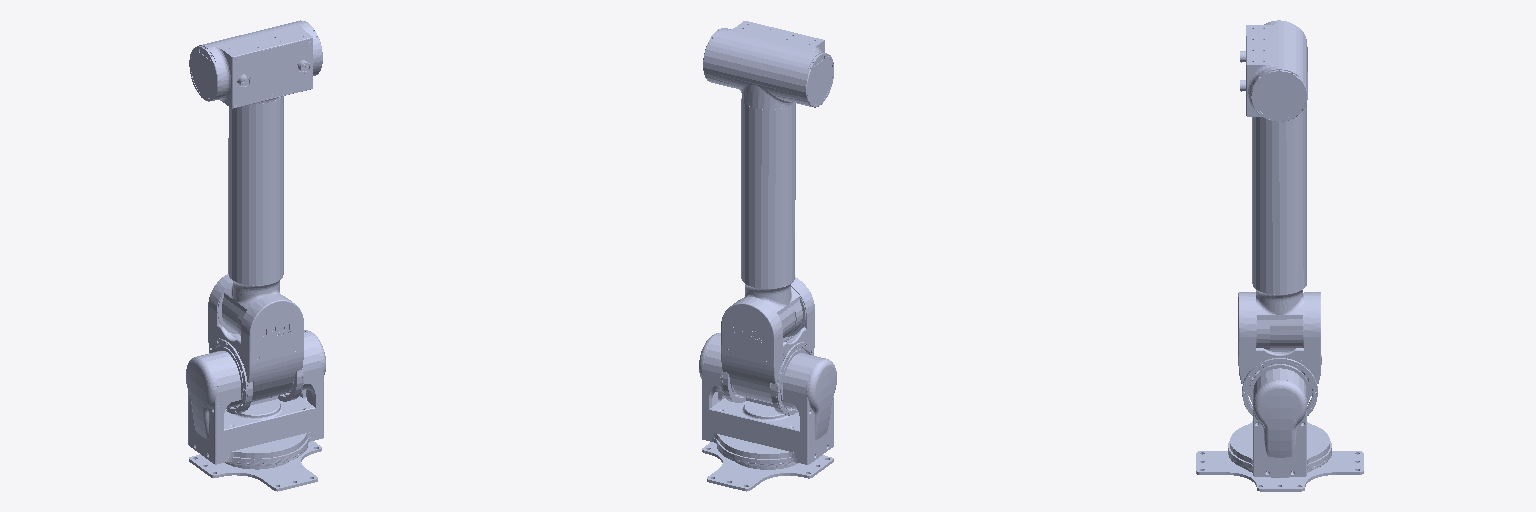
URDF robot description (mk2_arm):
<robot
  name="mk2_arm">
  <link
    name="gimbal_base_link">
    <inertial>
      <origin
        xyz="0.697730712652662 -0.61423613512963 0.0953054578075344"
        rpy="0 0 0" />
      <mass
        value="0.220004714037555" />
      <inertia
        ixx="0.000329104039004711"
        ixy="1.84945148884467E-07"
        ixz="-1.07919275499797E-06"
        iyy="0.00052362622412332"
        iyz="1.21510237523141E-07"
        izz="0.000212205129514198" />
    </inertial>
    <visual>
      <origin
        xyz="0 0 0"
        rpy="0 0 0" />
      <geometry>
        <mesh
          filename="package://mk2_arm_description/meshes/gimbal_base_link.STL" />
      </geometry>
      <material
        name="">
        <color
          rgba="0.792156862745098 0.819607843137255 0.933333333333333 1" />
      </material>
    </visual>
    <collision>
      <origin
        xyz="0 0 0"
        rpy="0 0 0" />
      <geometry>
        <mesh
          filename="package://mk2_arm_description/meshes/gimbal_base_link.STL" />
      </geometry>
    </collision>
  </link>
  <link
    name="gimbal_yaw_link">
    <inertial>
      <origin
        xyz="6.9473E-09 -0.1105 7.1443E-09"
        rpy="0 0 0" />
      <mass
        value="0.66047" />
      <inertia
        ixx="0.0011083"
        ixy="5.3867E-10"
        ixz="1.7212E-08"
        iyy="0.0019559"
        iyz="6.5501E-10"
        izz="0.0021629" />
    </inertial>
    <visual>
      <origin
        xyz="0 0 0"
        rpy="0 0 0" />
      <geometry>
        <mesh
          filename="package://mk2_arm_description/meshes/gimbal_yaw_link.STL" />
      </geometry>
      <material
        name="">
        <color
          rgba="0.79216 0.81961 0.93333 1" />
      </material>
    </visual>
    <collision>
      <origin
        xyz="0 0 0"
        rpy="0 0 0" />
      <geometry>
        <mesh
          filename="package://mk2_arm_description/meshes/gimbal_yaw_link.STL" />
      </geometry>
    </collision>
  </link>
  <joint
    name="gimbal_yaw_joint"
    type="continuous">
    <origin
      xyz="0.69787 -0.095394 -0.45928"
      rpy="1.5708 1.1605E-19 0.0018953" />
    <parent
      link="gimbal_base_link" />
    <child
      link="gimbal_yaw_link" />
    <axis
      xyz="0 -1 0" />
  </joint>
  <link
    name="gimbal_pitch_link">
    <inertial>
      <origin
        xyz="-0.0018808 0.040513 2.2934E-08"
        rpy="0 0 0" />
      <mass
        value="0.22273" />
      <inertia
        ixx="0.00053005"
        ixy="-1.8793E-05"
        ixz="-1.0251E-08"
        iyy="0.00048715"
        iyz="-2.5611E-09"
        izz="0.00067305" />
    </inertial>
    <visual>
      <origin
        xyz="0 0 0"
        rpy="0 0 0" />
      <geometry>
        <mesh
          filename="package://mk2_arm_description/meshes/gimbal_pitch_link.STL" />
      </geometry>
      <material
        name="">
        <color
          rgba="0.79216 0.81961 0.93333 1" />
      </material>
    </visual>
    <collision>
      <origin
        xyz="0 0 0"
        rpy="0 0 0" />
      <geometry>
        <mesh
          filename="package://mk2_arm_description/meshes/gimbal_pitch_link.STL" />
      </geometry>
    </collision>
  </link>
  <joint
    name="gimbal_pitch_joint"
    type="continuous">
    <origin
      xyz="0 -0.04 0"
      rpy="1.5708 1.5684 1.5708" />
    <parent
      link="gimbal_yaw_link" />
    <child
      link="gimbal_pitch_link" />
    <axis
      xyz="0 0 -1" />
  </joint>
  <link
    name="gimbal_roll_link">
    <inertial>
      <origin
        xyz="0.0011234 0.25248 -2.1452E-08"
        rpy="0 0 0" />
      <mass
        value="1.0691" />
      <inertia
        ixx="0.028215"
        ixy="0.00010924"
        ixz="-1.0872E-09"
        iyy="0.0020241"
        iyz="-1.2535E-09"
        izz="0.027072" />
    </inertial>
    <visual>
      <origin
        xyz="0 0 0"
        rpy="0 0 0" />
      <geometry>
        <mesh
          filename="package://mk2_arm_description/meshes/gimbal_roll_link.STL" />
      </geometry>
      <material
        name="">
        <color
          rgba="0.79216 0.81961 0.93333 1" />
      </material>
    </visual>
    <collision>
      <origin
        xyz="0 0 0"
        rpy="0 0 0" />
      <geometry>
        <mesh
          filename="package://mk2_arm_description/meshes/gimbal_roll_link.STL" />
      </geometry>
    </collision>
  </link>
  <joint
    name="gimbal_roll_joint"
    type="continuous">
    <origin
      xyz="0 0.08 0"
      rpy="-3.1404 -4.4405E-14 -3.1416" />
    <parent
      link="gimbal_pitch_link" />
    <child
      link="gimbal_roll_link" />
    <axis
      xyz="-1 0 0" />
  </joint>
</robot>

--- Facts derived from the render (not from the file) ---
The picture shows the robot from 3 angles, left to right: view 1: azimuth 30°, elevation 25°; view 2: azimuth 150°, elevation 25°; view 3: azimuth 270°, elevation 25°; orthographic projection.
Robot: mk2_arm — 4 links, 3 joints (3 continuous); root link gimbal_base_link; default pose: every joint at zero.
Links seen in each view (by area): view 1: gimbal_roll_link, gimbal_yaw_link, gimbal_pitch_link, gimbal_base_link; view 2: gimbal_roll_link, gimbal_yaw_link, gimbal_pitch_link, gimbal_base_link; view 3: gimbal_roll_link, gimbal_yaw_link, gimbal_pitch_link, gimbal_base_link.
Link boxes in pixels (x1,y1,x2,y2): gimbal_roll_link: [189, 20, 322, 335]; gimbal_yaw_link: [186, 330, 325, 465]; gimbal_pitch_link: [208, 274, 304, 413]; gimbal_base_link: [189, 441, 321, 491]; gimbal_roll_link: [703, 21, 833, 337]; gimbal_yaw_link: [699, 333, 836, 466]; gimbal_pitch_link: [720, 277, 814, 415]; gimbal_base_link: [702, 442, 833, 491]; gimbal_roll_link: [1240, 20, 1307, 350]; gimbal_yaw_link: [1228, 364, 1331, 476]; gimbal_pitch_link: [1238, 292, 1321, 415]; gimbal_base_link: [1196, 451, 1363, 491].
Bounding box of the posed robot: 0.1795 × 0.2182 × 0.6044 m (x, y, z).
4 mesh visuals loaded from 4 distinct referenced files (4 binary STL).